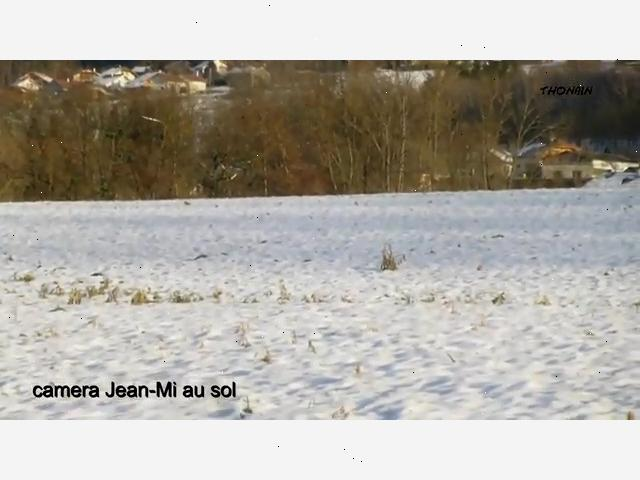Anti-Drone: (132, 111, 166, 127)
